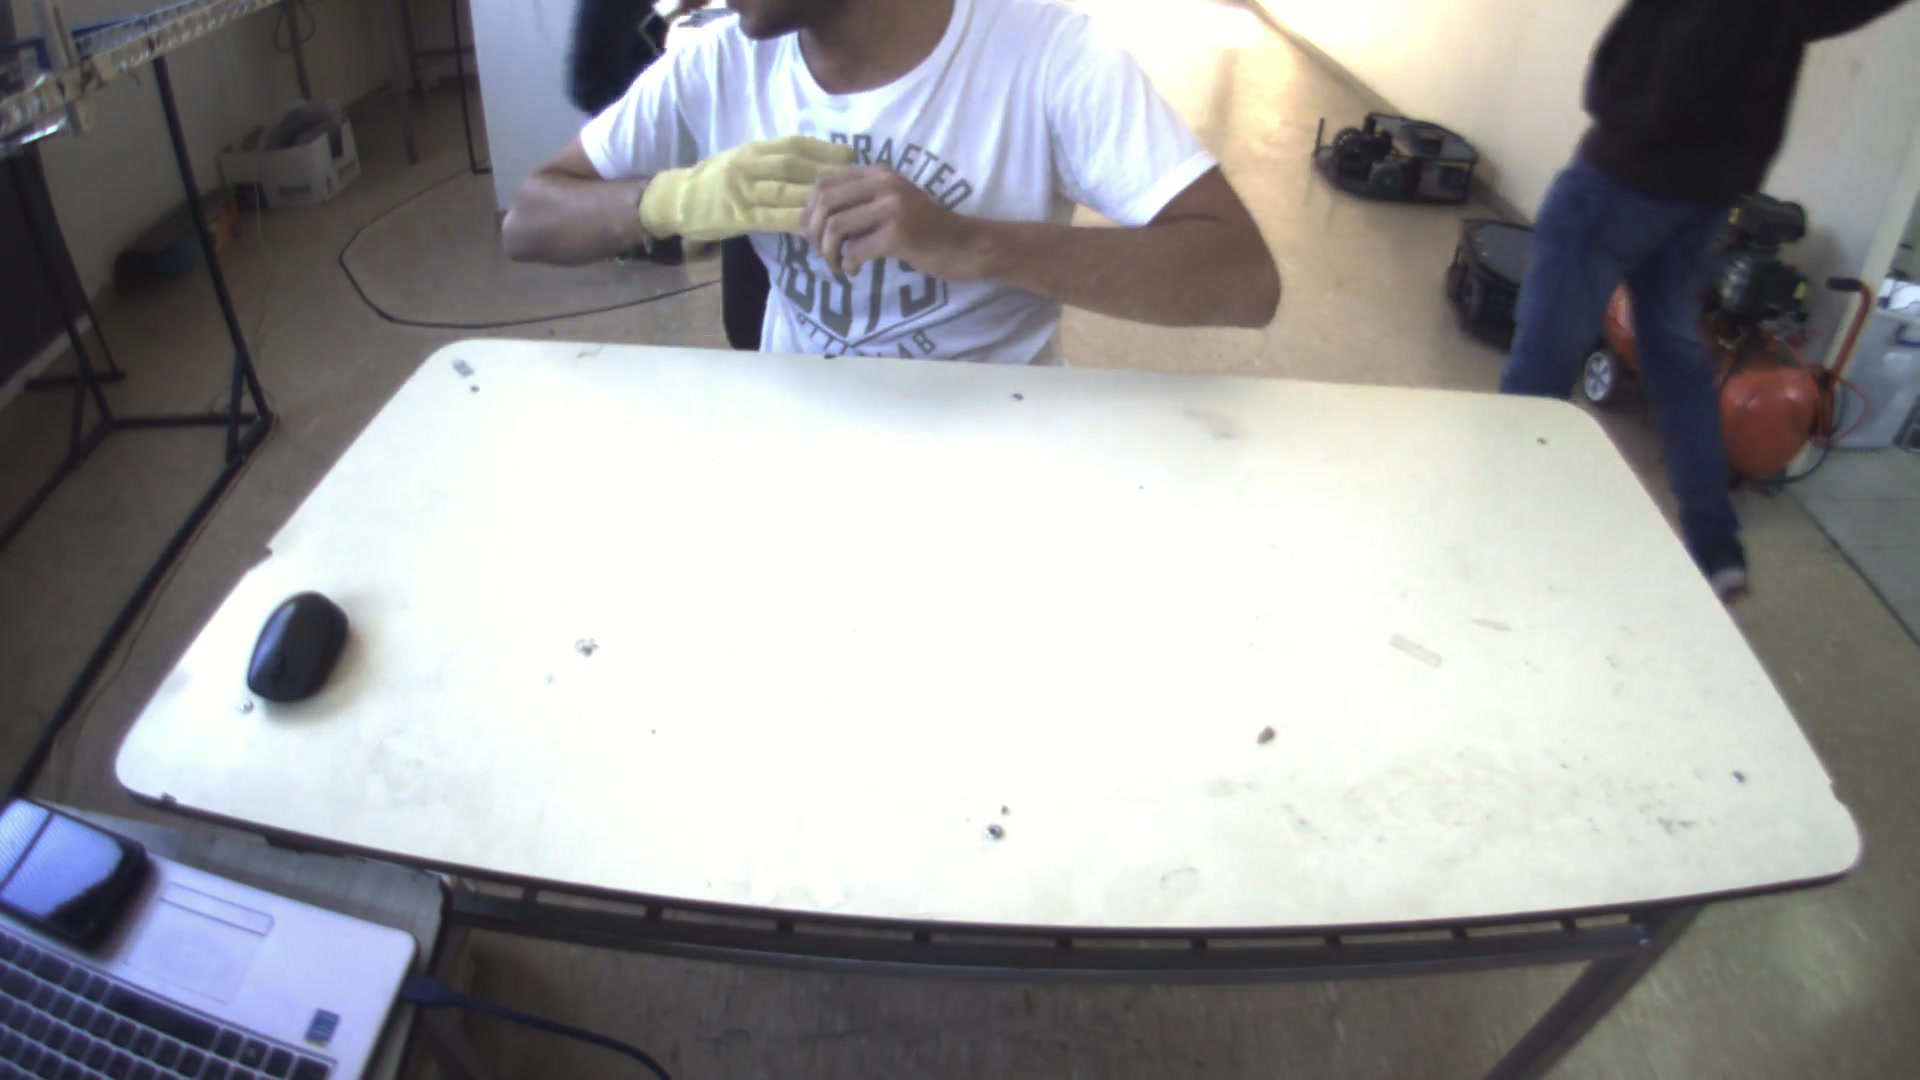hand: (626, 120, 849, 245), (804, 138, 973, 280)
